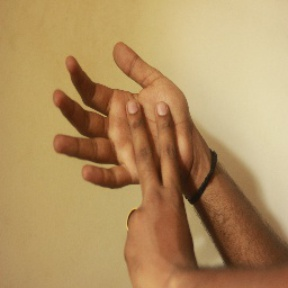N: (44, 35, 198, 262)
